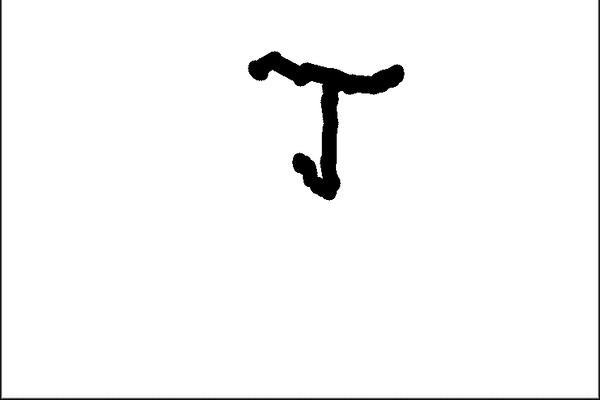J: (244, 40, 414, 209)
